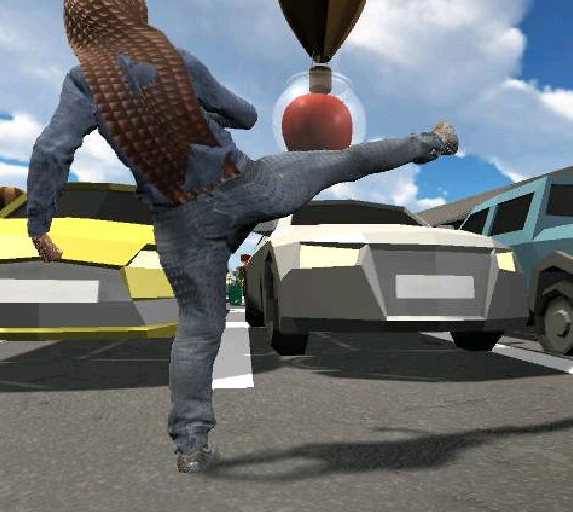turn_right: (25, 1, 457, 481)
